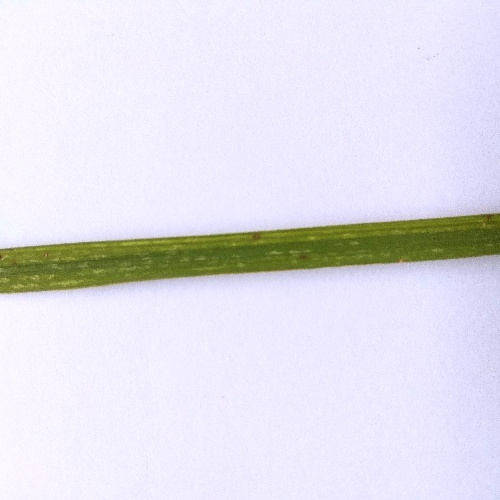Busuk Leher: (245, 226, 267, 243)
